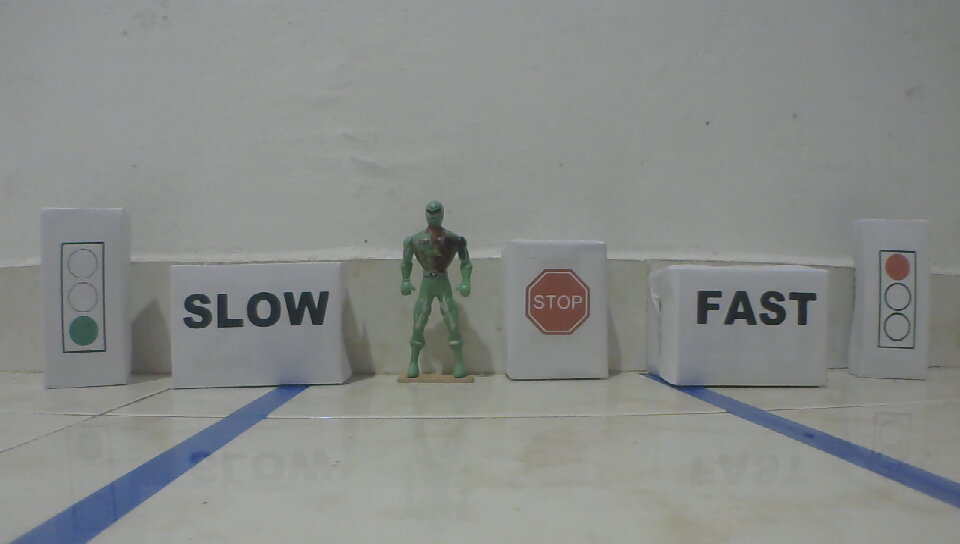Fast: (696, 287, 821, 329)
Green Traffic Light: (58, 239, 112, 356)
Person: (394, 198, 477, 384)
Red Traffic Light: (875, 248, 920, 352)
Slow: (179, 291, 333, 331)
Stop Sign: (522, 266, 592, 337)
